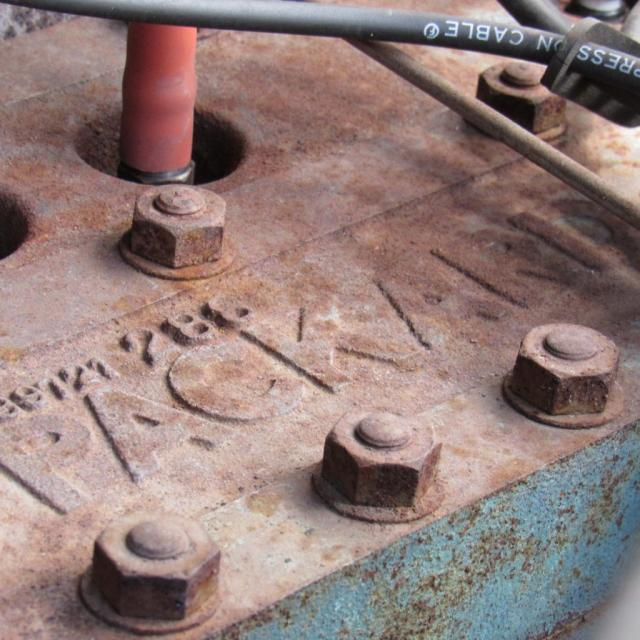bolt nut: (88, 507, 220, 621), (319, 404, 443, 510), (506, 317, 622, 417), (126, 182, 228, 270), (472, 58, 572, 135)
